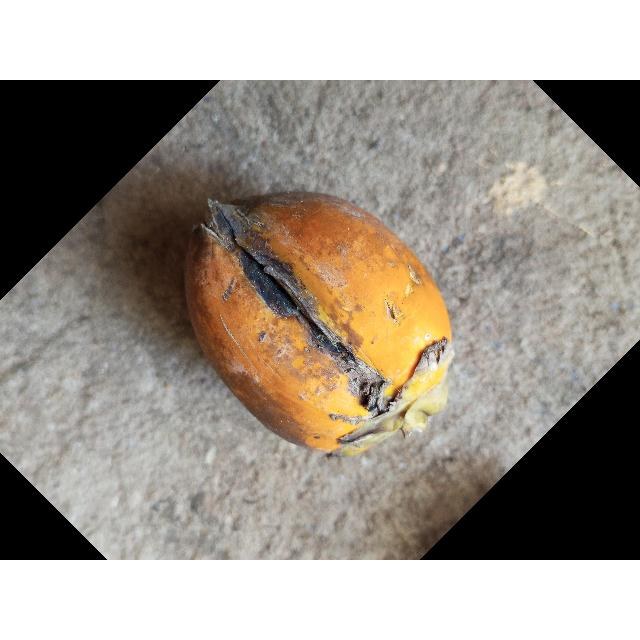damaged: (185, 193, 454, 456)
